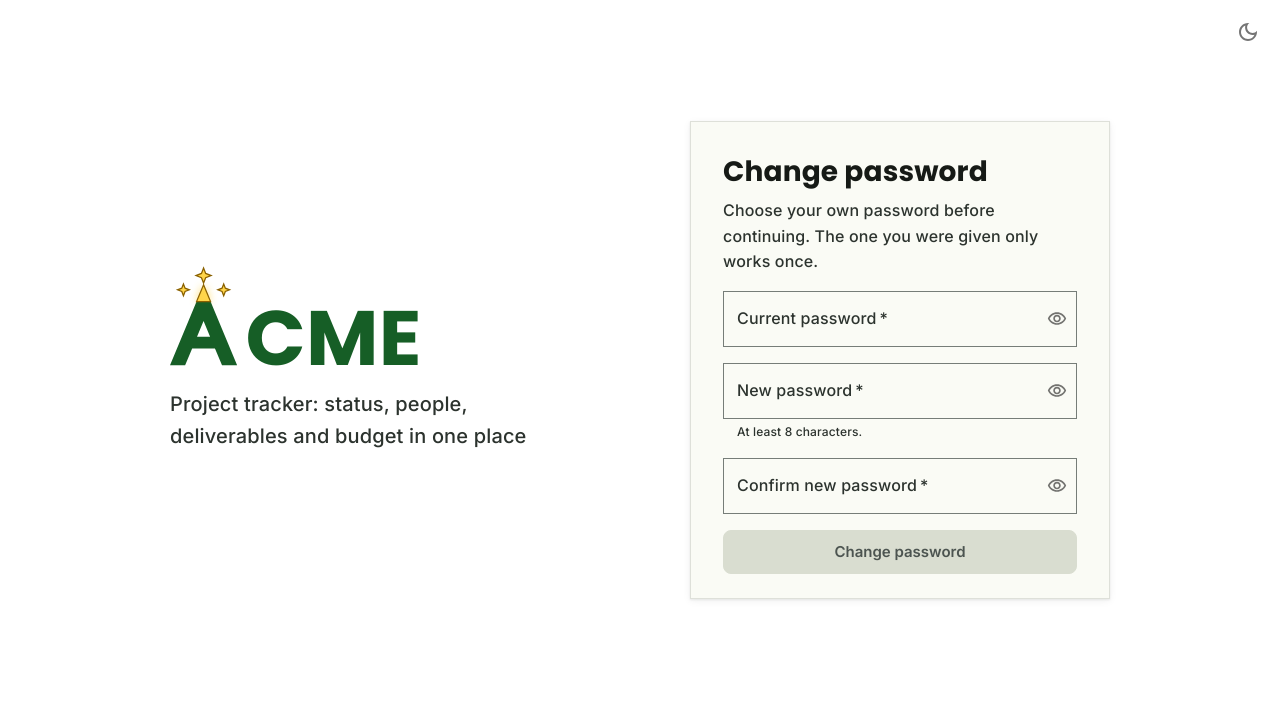
Test case: ChangePasswordPage › shows a general error when the current password is wrong
Type "wrong" into the password field labelled "Current password *" at point(877, 319), box [723,291,1031,347]
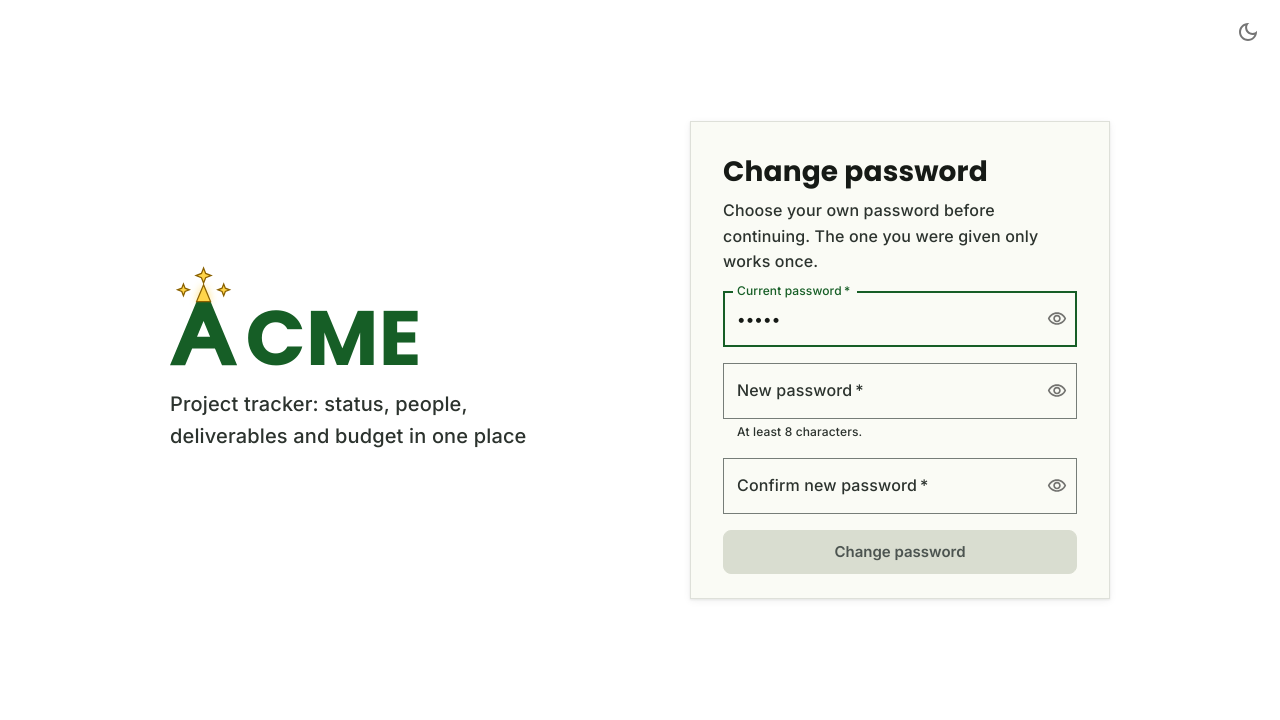
Type "my-new-password" into the password field labelled "New password *" at point(877, 391), box [723,363,1031,419]
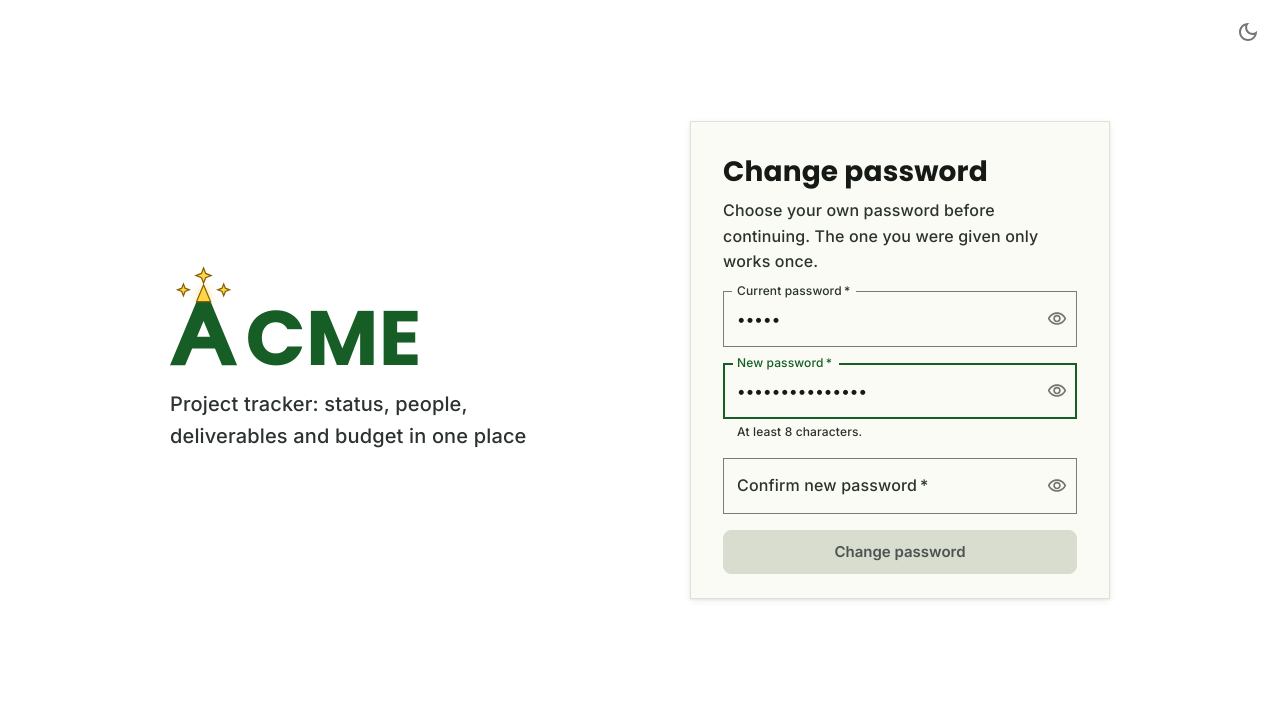
Type "my-new-password" into the password field labelled "Confirm new password *" at point(877, 486), box [723,458,1031,514]
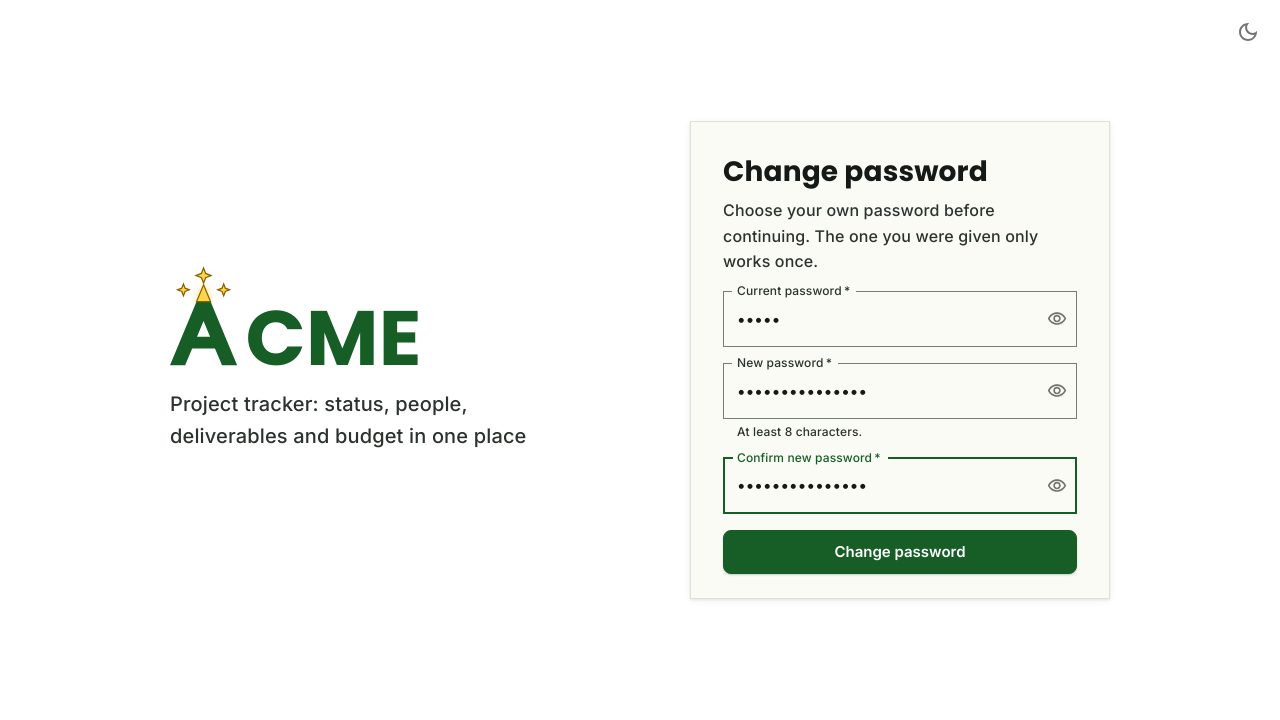
Click the button "Change password" at point(900, 552), box [723,530,1077,574]
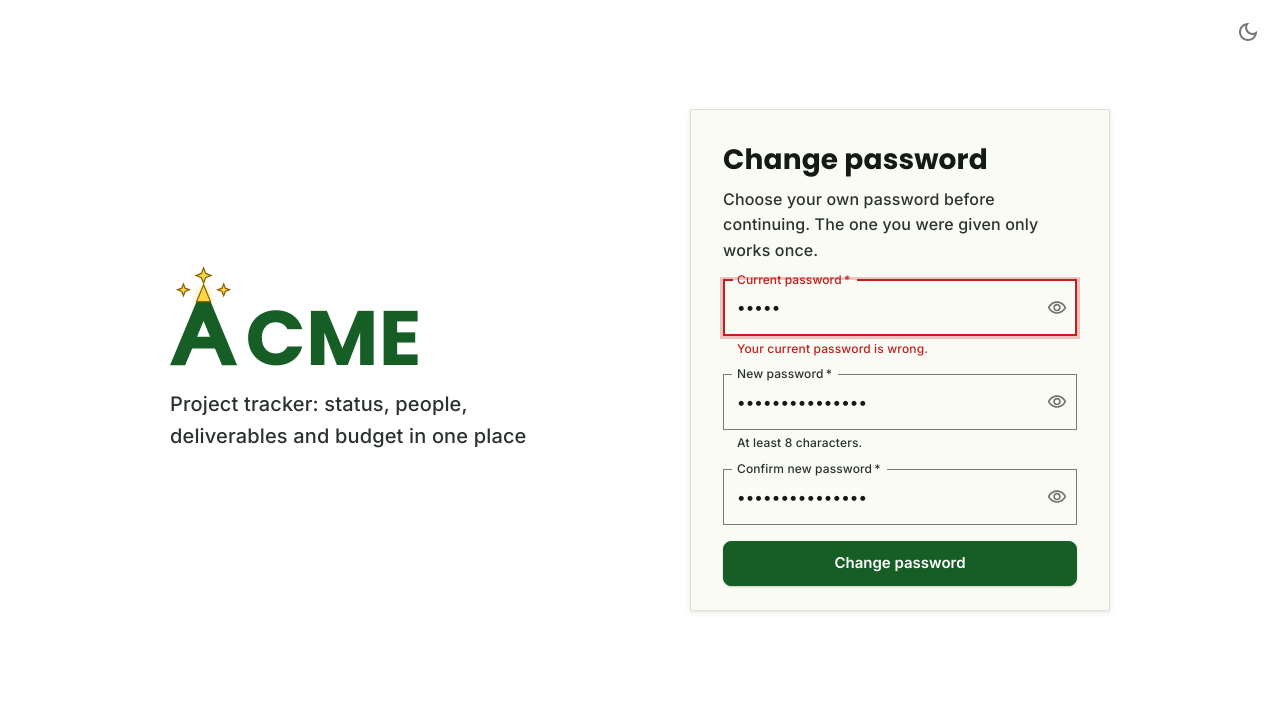
Expected: the text "Your current password is wrong." is shown, [737,340,928,356]
